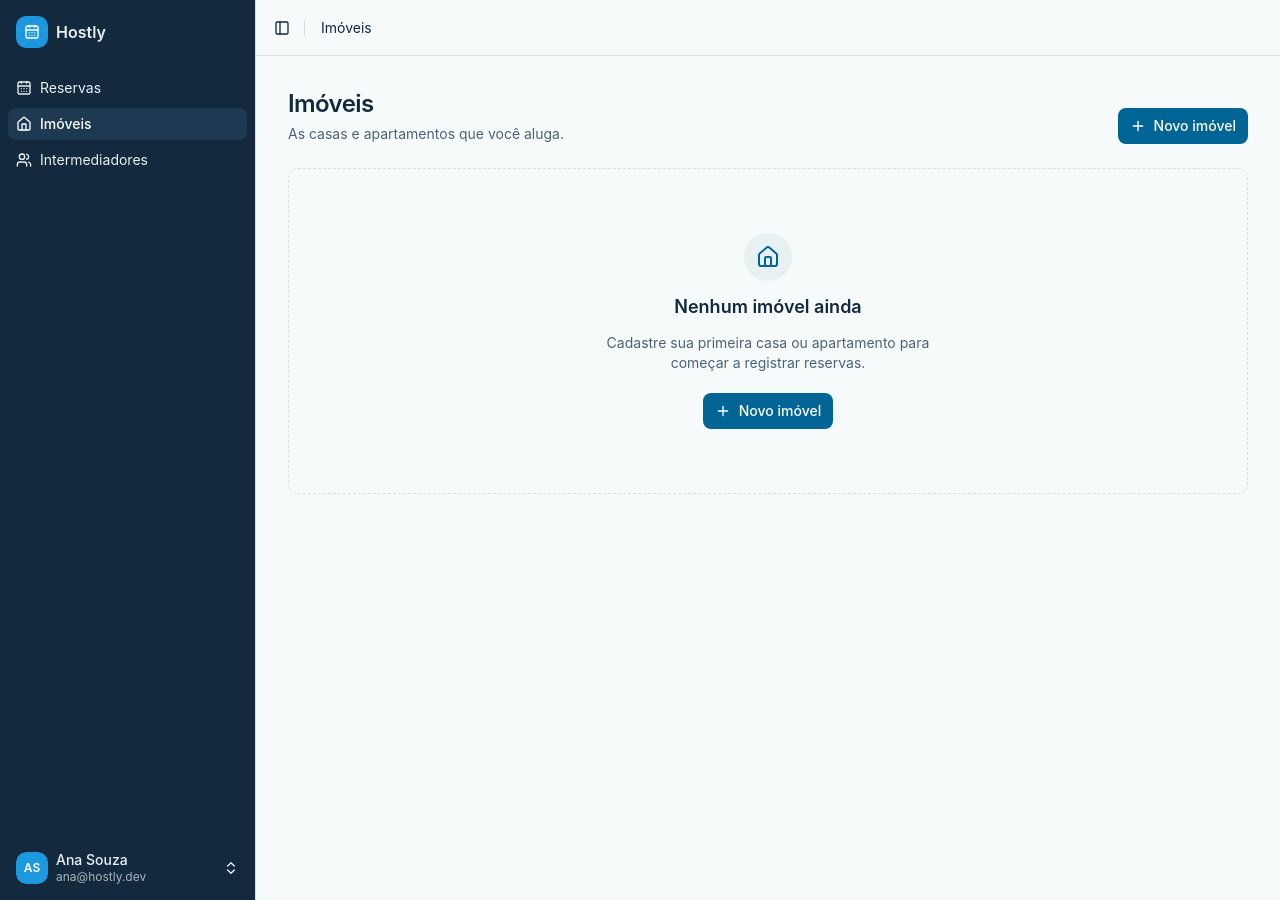
Test case: creating a property › fills the address from the CEP and sends only what was filled
expect the heading "Imóveis" is shown: met, box 288,89 -> 374,118
Click the button "Novo imóvel" in the row of "As casas e apartamentos que você aluga." at (1183, 126), box 1118,108 -> 1248,144
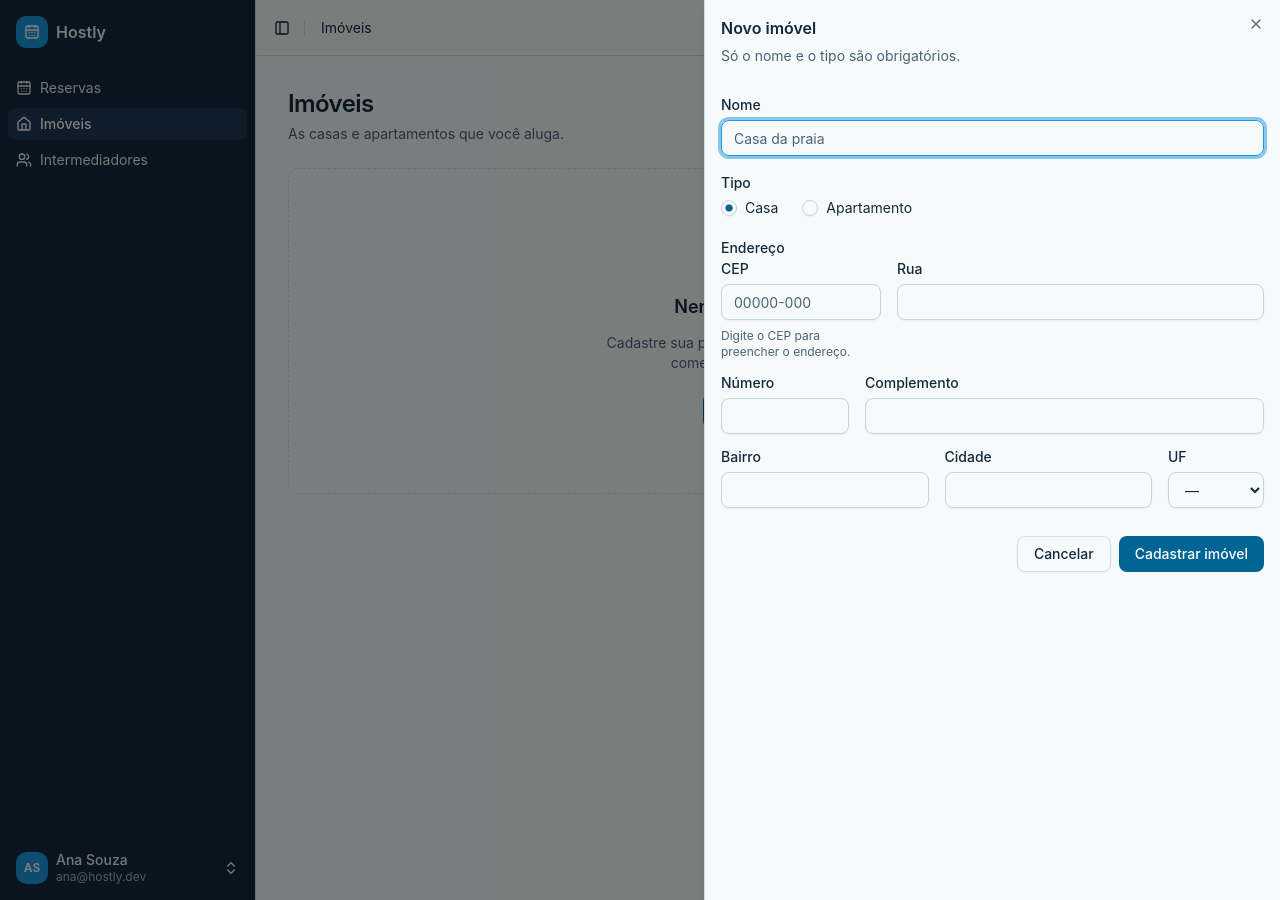
Type "Casa da Praia" into the field labelled "Nome" at (992, 138), box 721,120 -> 1264,156
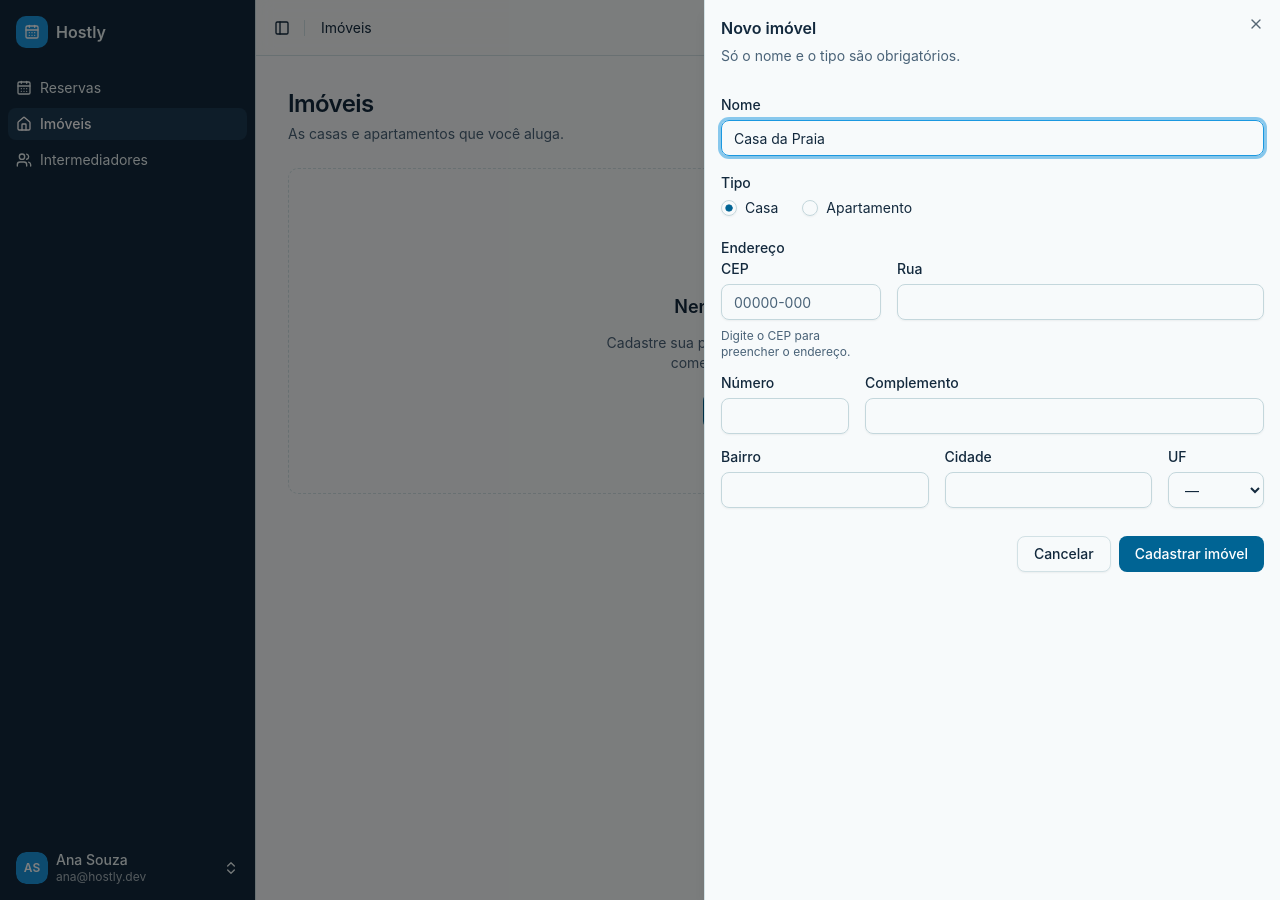
Type "88053700" into the field labelled "CEP" at (801, 302), box 721,284 -> 881,320
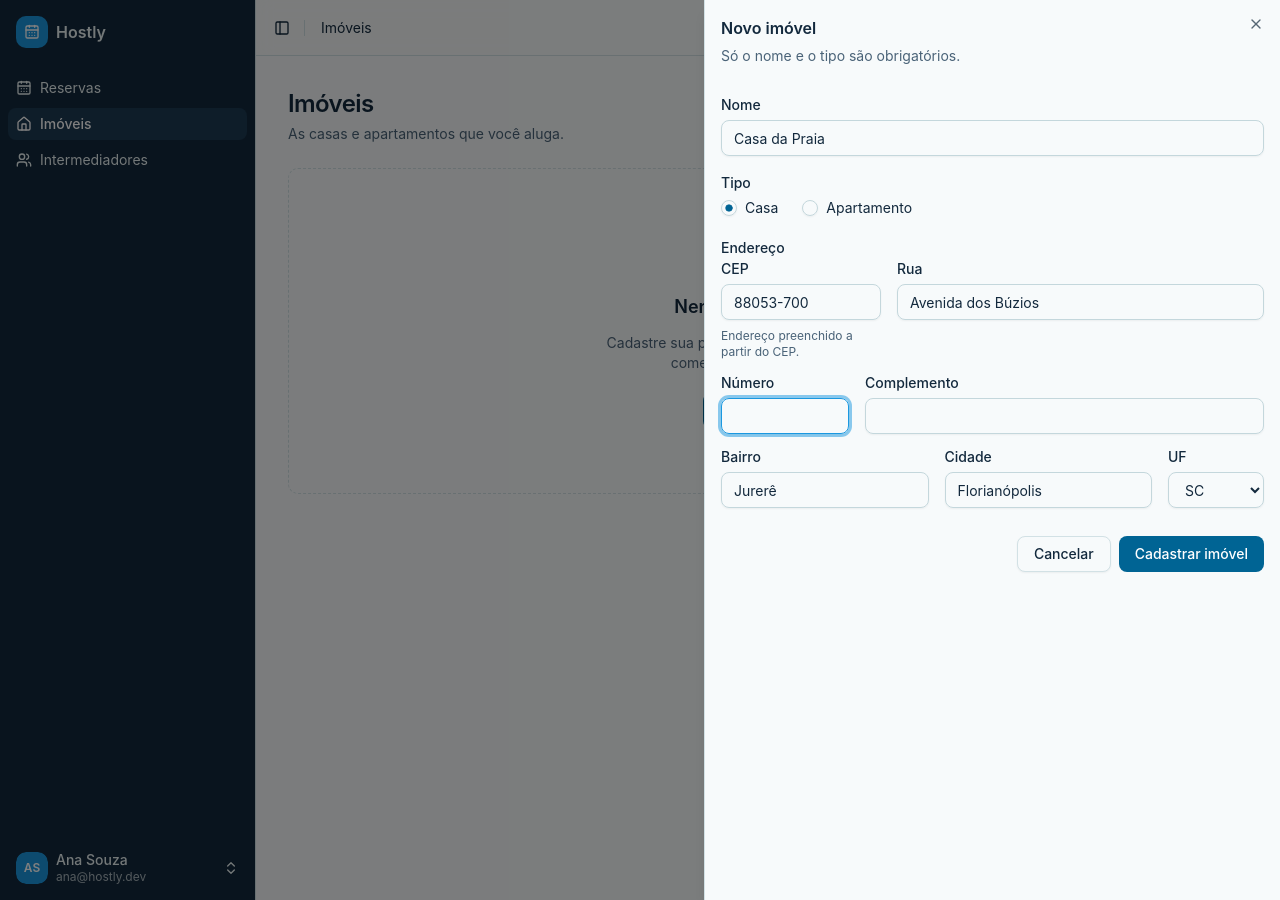
expect the field labelled "Rua" holds "Avenida dos Búzios": met, box 897,284 -> 1264,320
expect the field labelled "CEP" holds "88053-700": met, box 721,284 -> 881,320
expect the field labelled "Cidade" holds "Florianópolis": met, box 944,472 -> 1152,508
Type "100" into the field labelled "Número" at (785, 416), box 721,398 -> 849,434
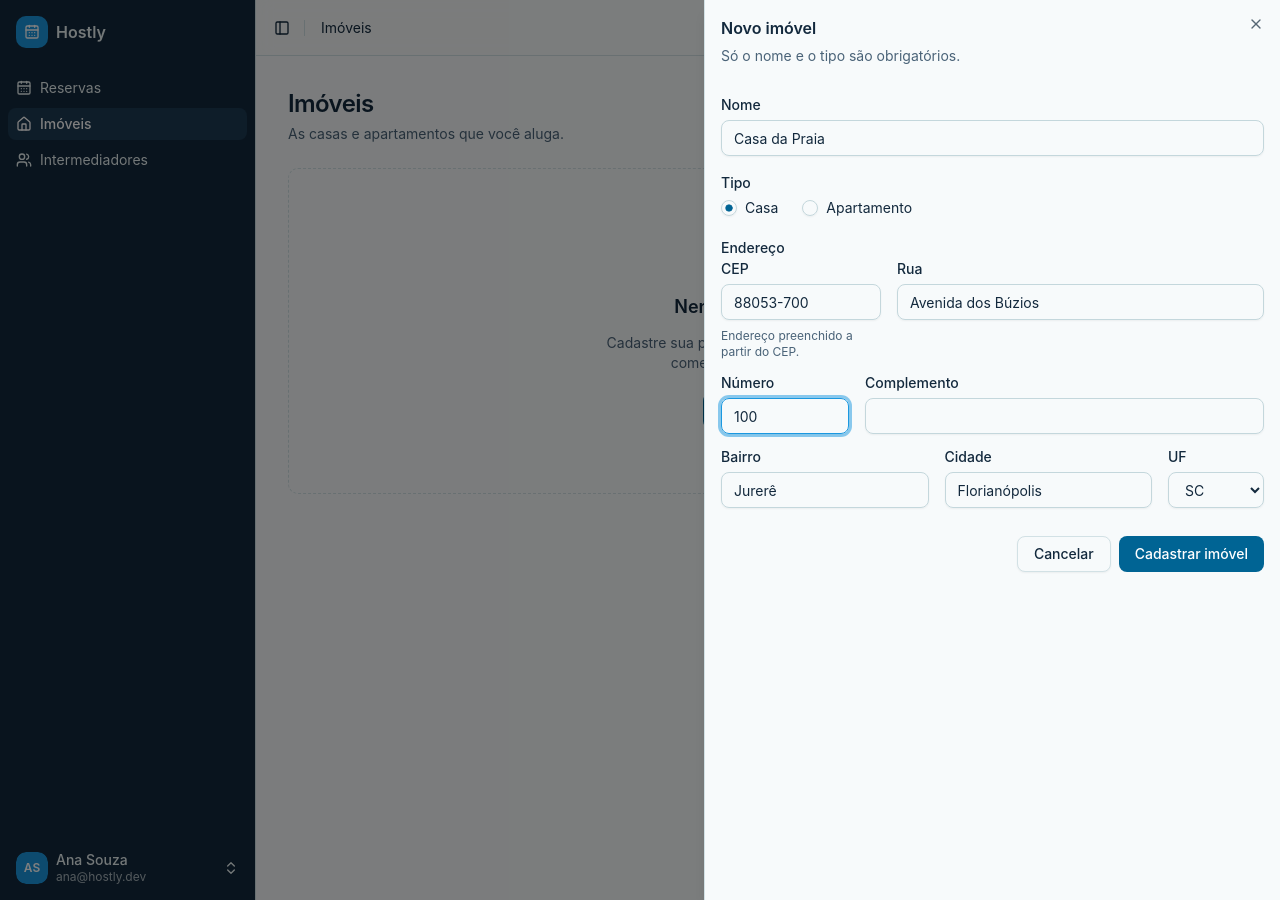
Click the button "Cadastrar imóvel" at (1191, 554), box 1119,536 -> 1264,572
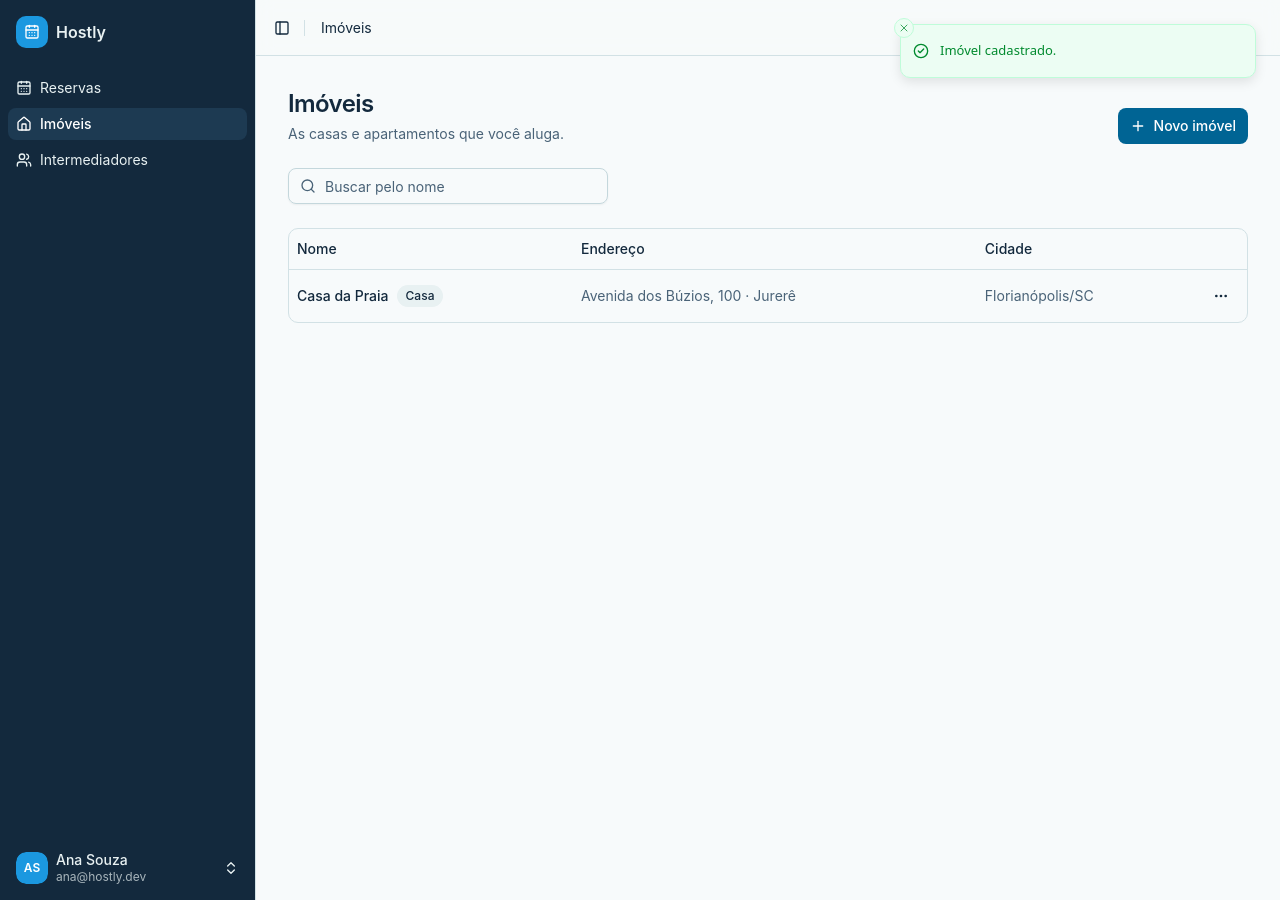
expect the text "Imóvel cadastrado." is shown: met, box 940,41 -> 1056,60
expect the dialog is gone: met
expect the text "Casa da Praia" is shown: met, box 297,286 -> 388,306
